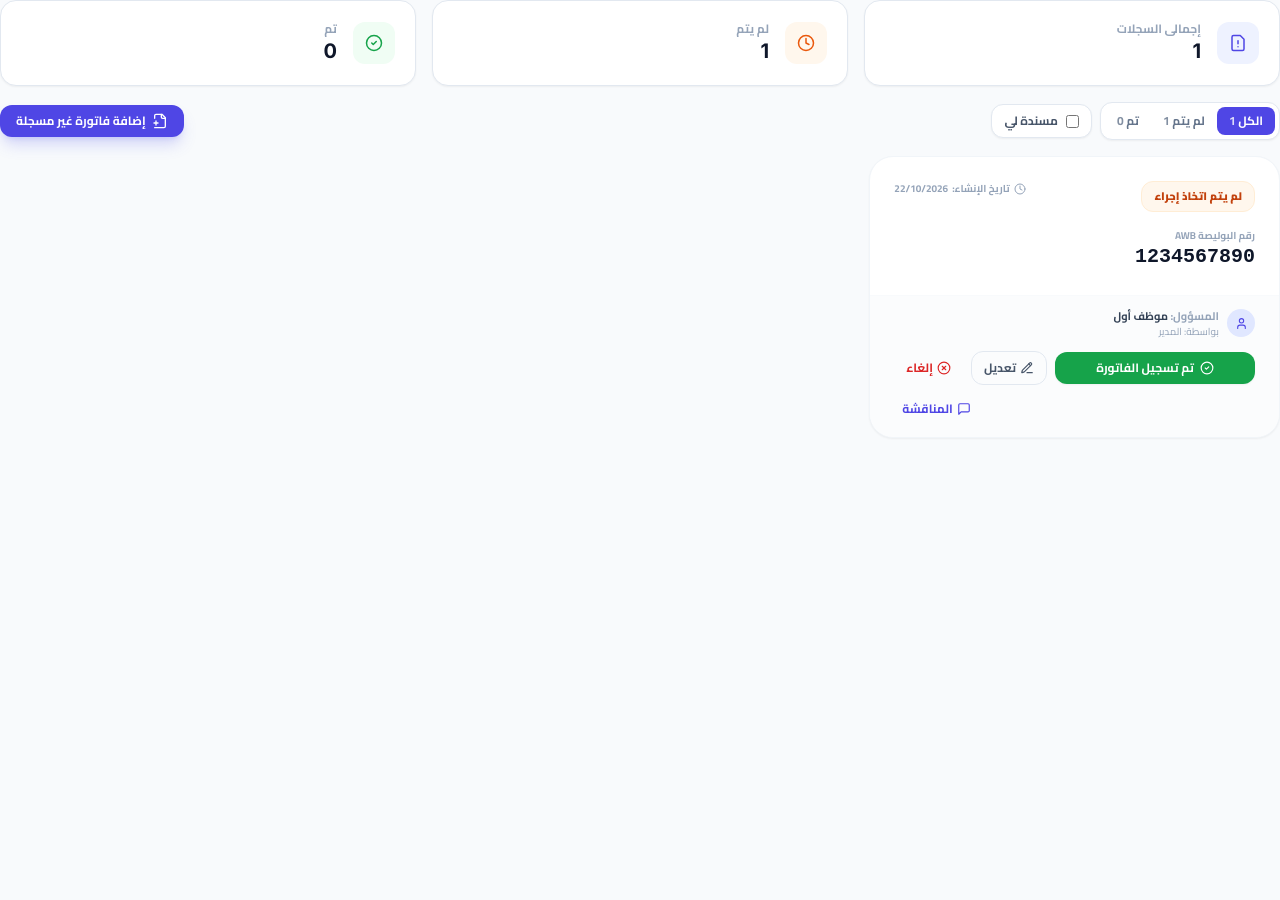
Test: UnregisteredInvoicesPanel — editing a pending record › completed meanwhile (409 TASK_COMPLETED): explains it and re-reads the list; a duplicate AWB shows the server message
Click the button with aria-label "تعديل سجل البوليصة" at (1009, 368), box [971,351,1047,385]
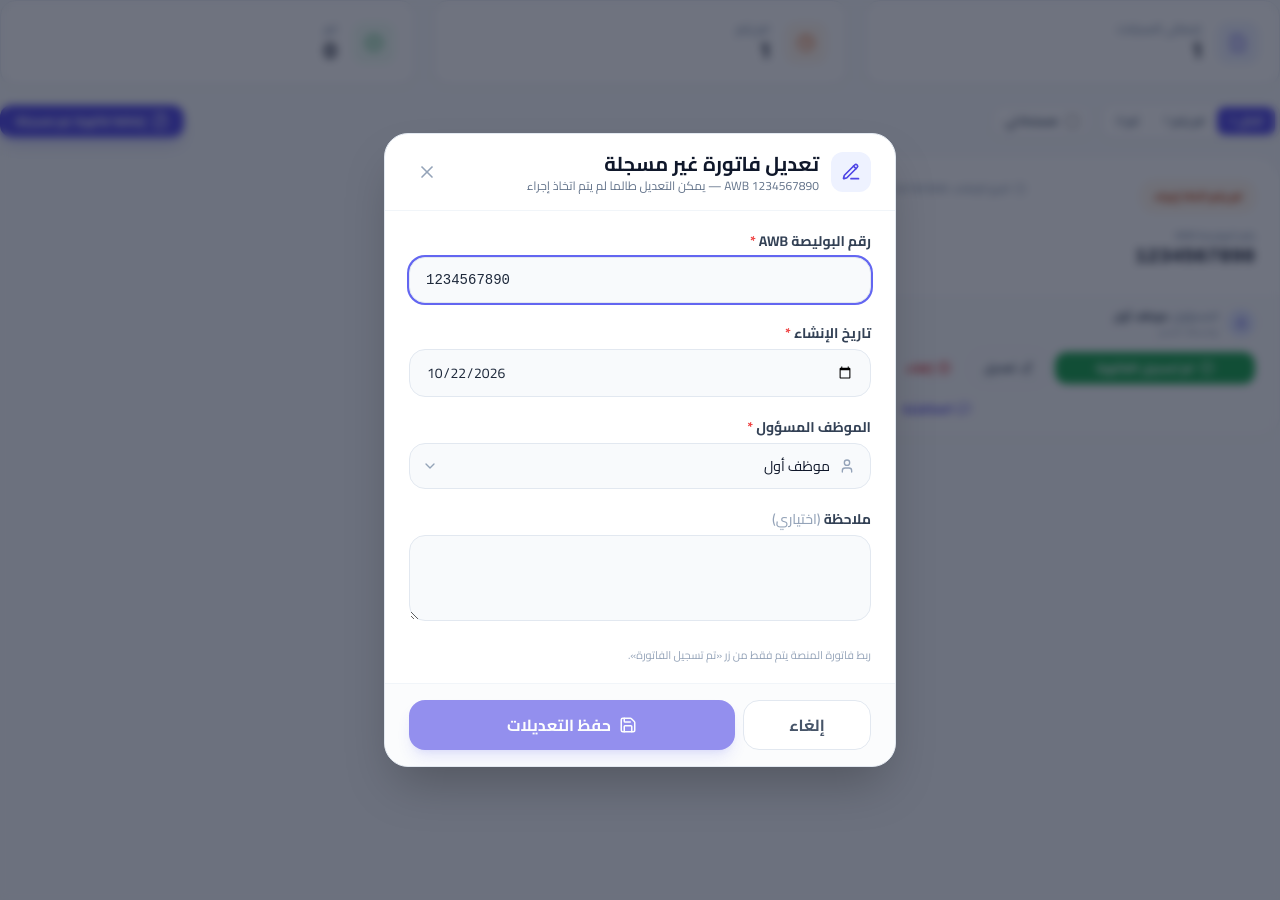
Type "تعديل متأخر" into the text box labelled "ملاحظة (اختياري)" at (640, 578), box [409,535,871,621]
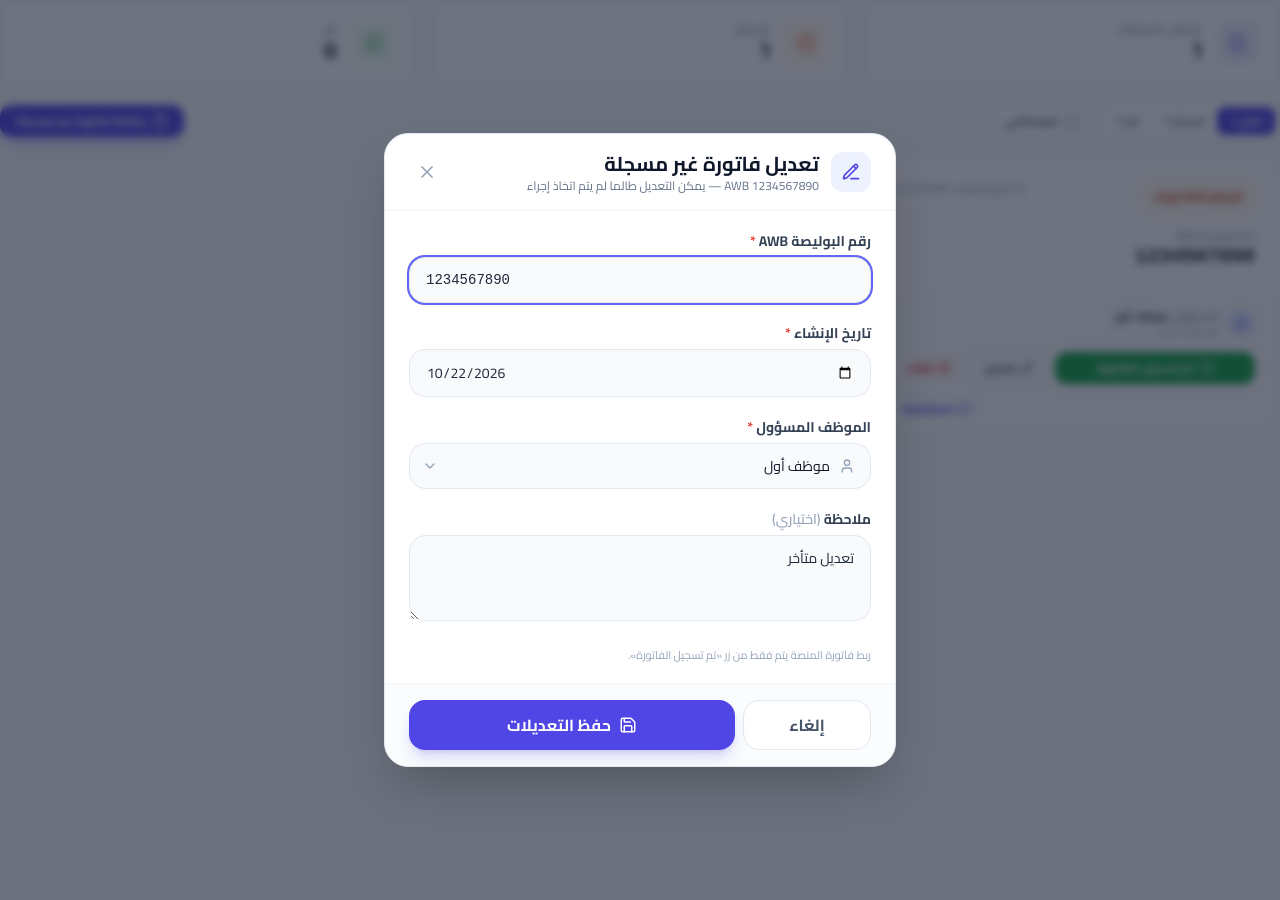
Click the button "حفظ التعديلات" at (572, 725), box [409,700,735,750]
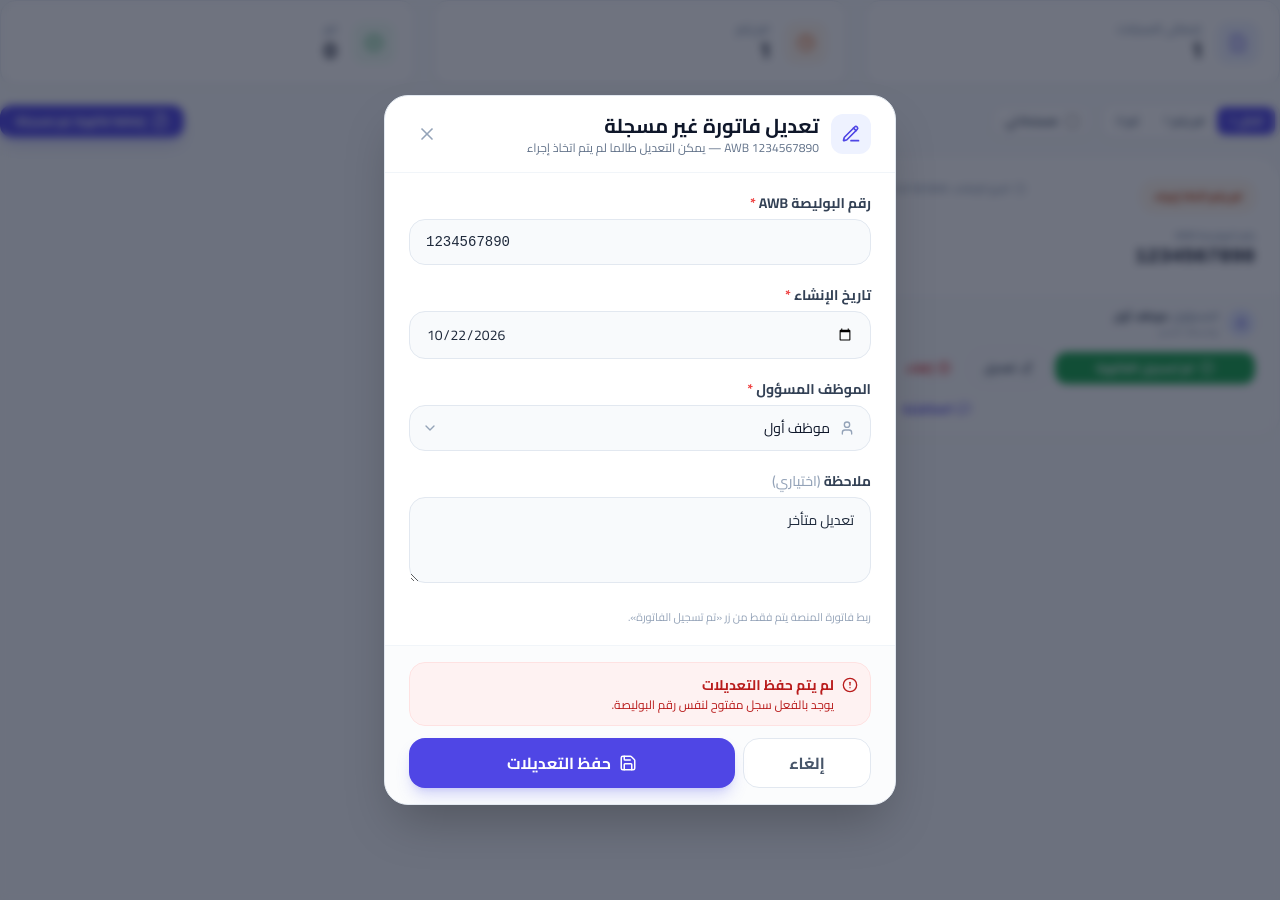
Expected: the text "يوجد بالفعل سجل مفتوح لنفس رقم البوليصة." is shown, [611,697,834,713]
Click the button "حفظ التعديلات" at (572, 763), box [409,738,735,788]
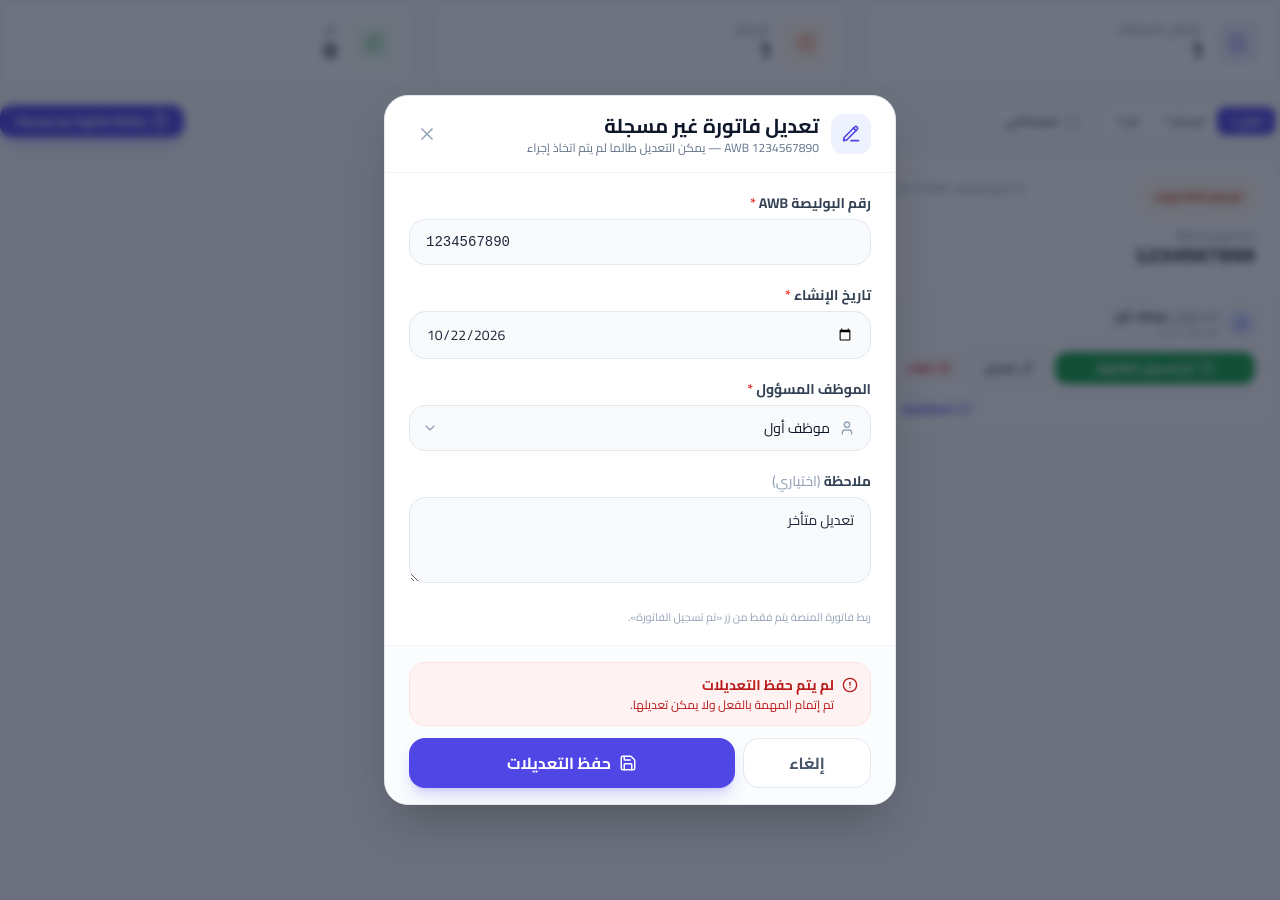
Expected: the text "تم إتمام المهمة بالفعل ولا يمكن تعديلها." is shown, [630,697,834,713]
